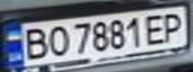1: (124, 15, 145, 47)
7: (69, 20, 93, 55)
8: (90, 17, 112, 52), (106, 16, 127, 51)
B: (18, 25, 51, 61)
E: (139, 11, 172, 45)
O: (42, 24, 72, 57)
P: (157, 9, 190, 43)
